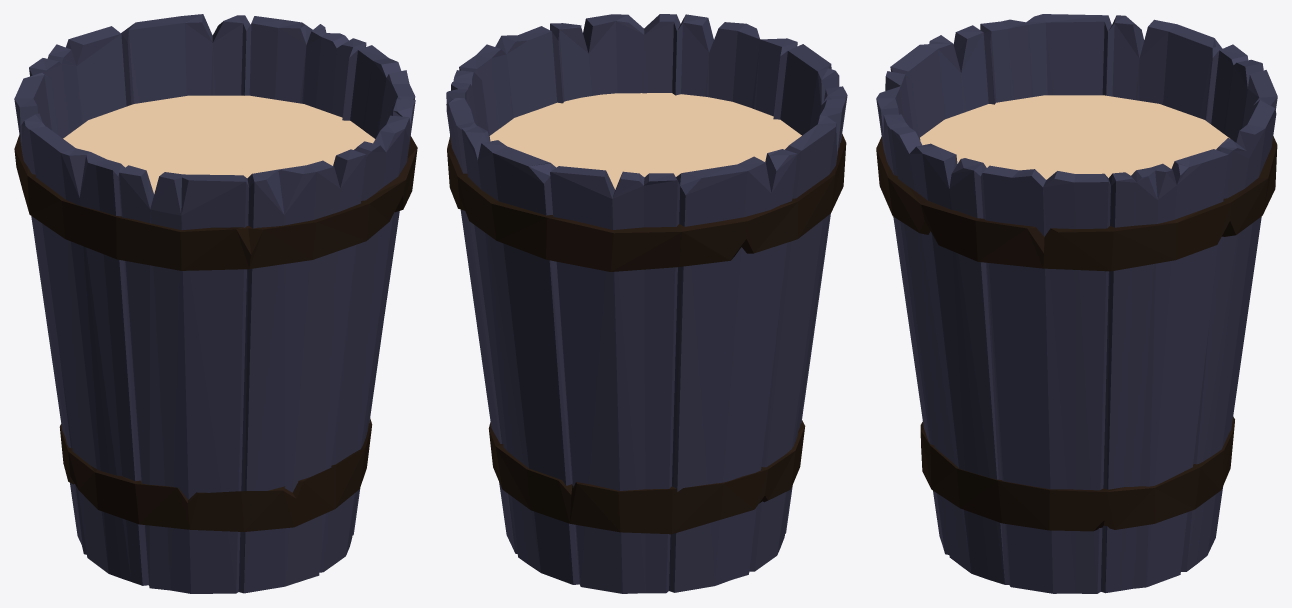
File: SFFA_Bucket_Water_001.fbx
3 renders of one model, left to right at view 1: azimuth 30°, elevation 25°; view 2: azimuth 150°, elevation 25°; view 3: azimuth 270°, elevation 25°, orthographic.
Visible parts, largest first — view 1: SFFA_Bucket_Water_001; view 2: SFFA_Bucket_Water_001; view 3: SFFA_Bucket_Water_001.
Boxes of the visible parts, x1=… form: SFFA_Bucket_Water_001: x1=14, y1=14, x2=417, y2=593; SFFA_Bucket_Water_001: x1=446, y1=14, x2=847, y2=593; SFFA_Bucket_Water_001: x1=876, y1=14, x2=1277, y2=593.
Bounding box in the file's own units: 52.82 × 64.51 × 53.13.
